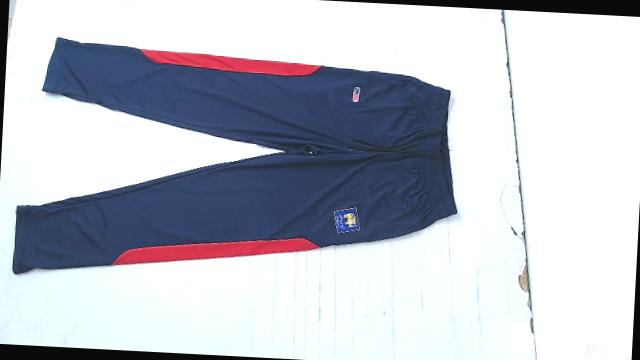new-garment: (12, 37, 456, 273)
